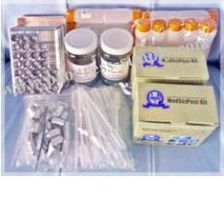book: (128, 79, 220, 150), (125, 43, 212, 106)
